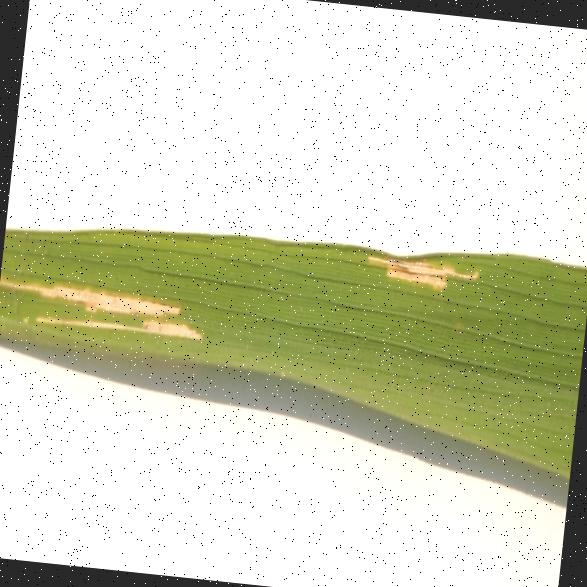Bacteria_Leaf_Blight: (0, 201, 230, 414), (349, 201, 499, 320)
